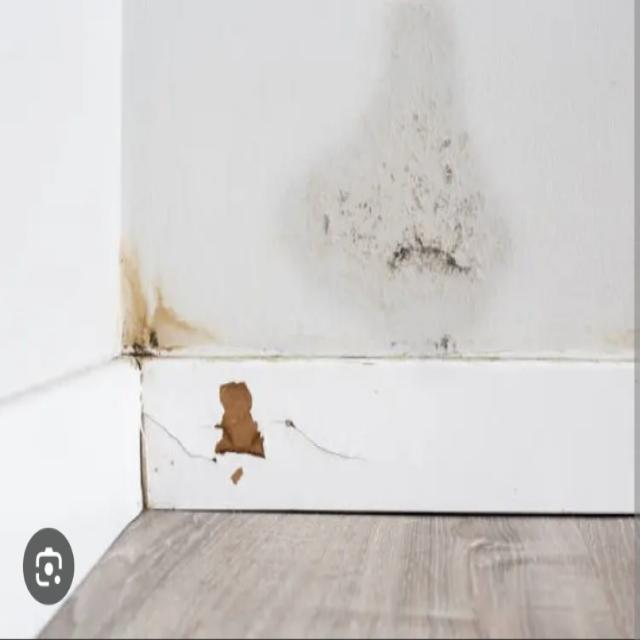cracked_skirting: (203, 374, 374, 493), (111, 357, 170, 518)
wall_leaking: (264, 6, 525, 349), (119, 238, 220, 352)
